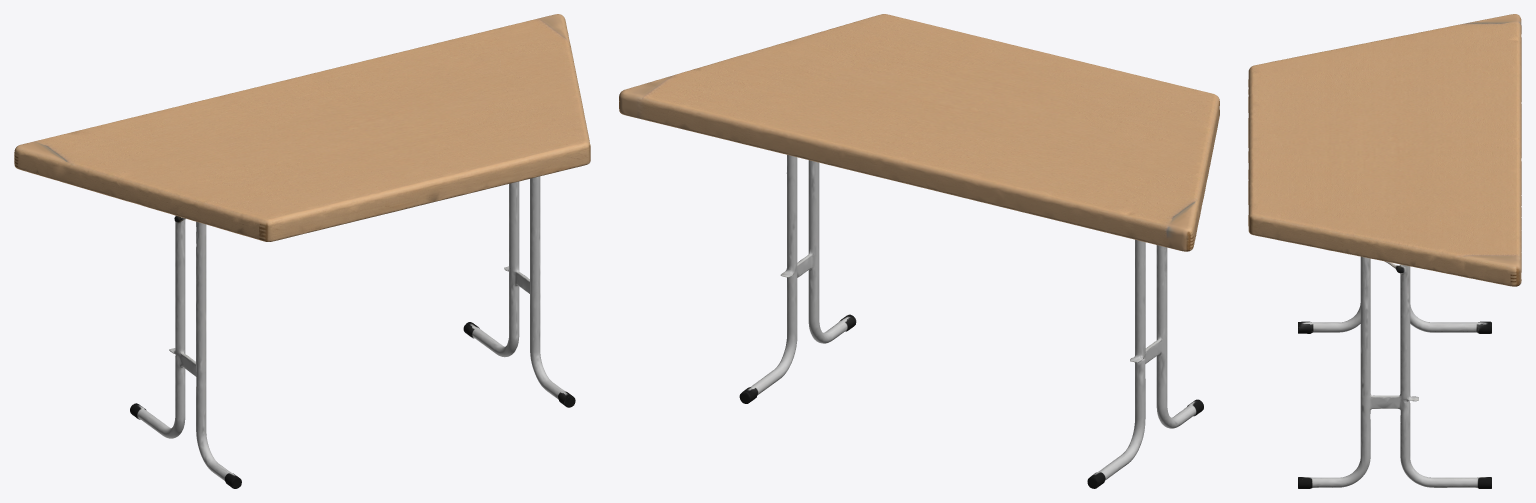
The model's file is dalemans-tisch-trapez-low.glb.
3 views of the same model, side by side, from view 1: azimuth 30°, elevation 25°; view 2: azimuth 150°, elevation 25°; view 3: azimuth 270°, elevation 25° (orthographic). The views are drawn at different scales.
Parts seen in each view (by area): view 1: Mesh_0; view 2: Mesh_0; view 3: Mesh_0.
Boxes of the visible parts, x1,y1,x2,y2 form: Mesh_0: (14, 14, 590, 488); Mesh_0: (619, 14, 1219, 488); Mesh_0: (1248, 14, 1521, 488).
Size of the model in its own units: 1.9 by 0.9414 by 0.8585.
Materials: 1 (1 with a texture image).
